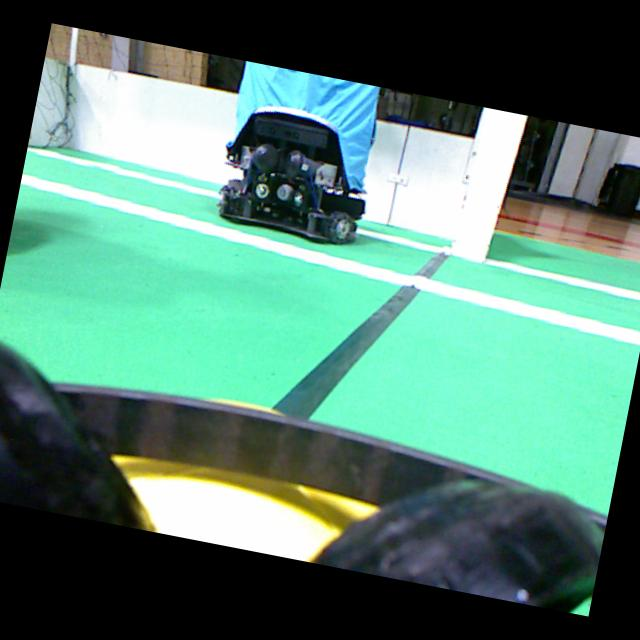ball: (113, 400, 384, 561)
goal: (452, 107, 526, 262)
